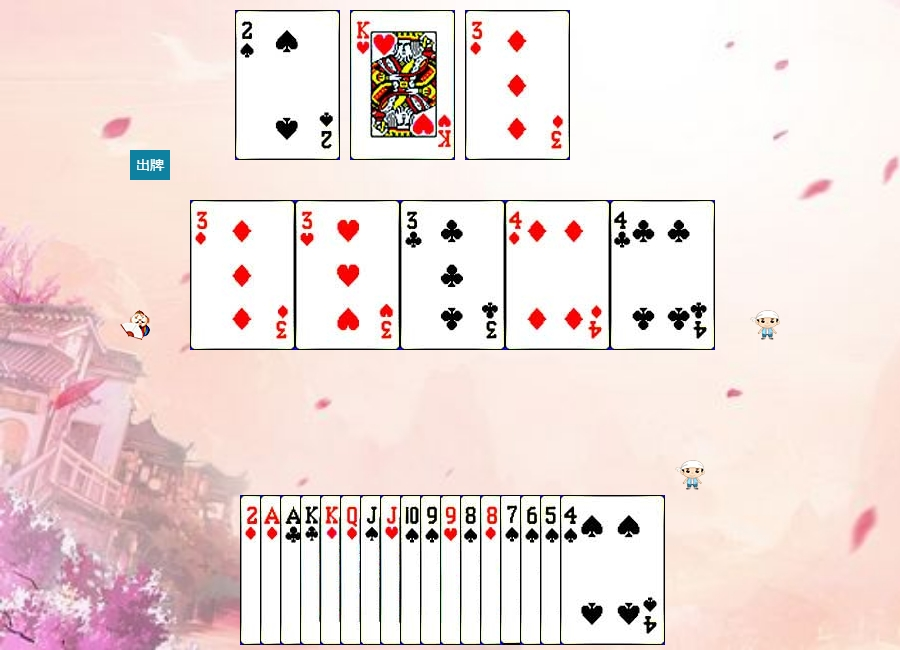10~4: (400, 495, 505, 645)
11~3: (380, 495, 485, 645)
11~4: (360, 495, 465, 645)
12~1: (340, 495, 445, 645)
13~1: (320, 495, 425, 645)
13~2: (300, 495, 405, 645)
13~3: (350, 10, 455, 160)
14~1: (260, 495, 365, 645)
14~2: (280, 495, 385, 645)
15~1: (240, 495, 345, 645)
15~4: (235, 10, 340, 160)
3~1: (465, 10, 570, 160), (190, 200, 295, 350)
3~2: (400, 200, 505, 350)
3~3: (295, 200, 400, 350)
4~1: (505, 200, 610, 350)
4~2: (610, 200, 715, 350)
4~4: (560, 495, 665, 645)
5~4: (540, 495, 645, 645)
6~4: (520, 495, 625, 645)
7~4: (500, 495, 605, 645)
8~1: (480, 495, 585, 645)
8~4: (460, 495, 565, 645)
9~3: (440, 495, 545, 645)
9~4: (420, 495, 525, 645)
